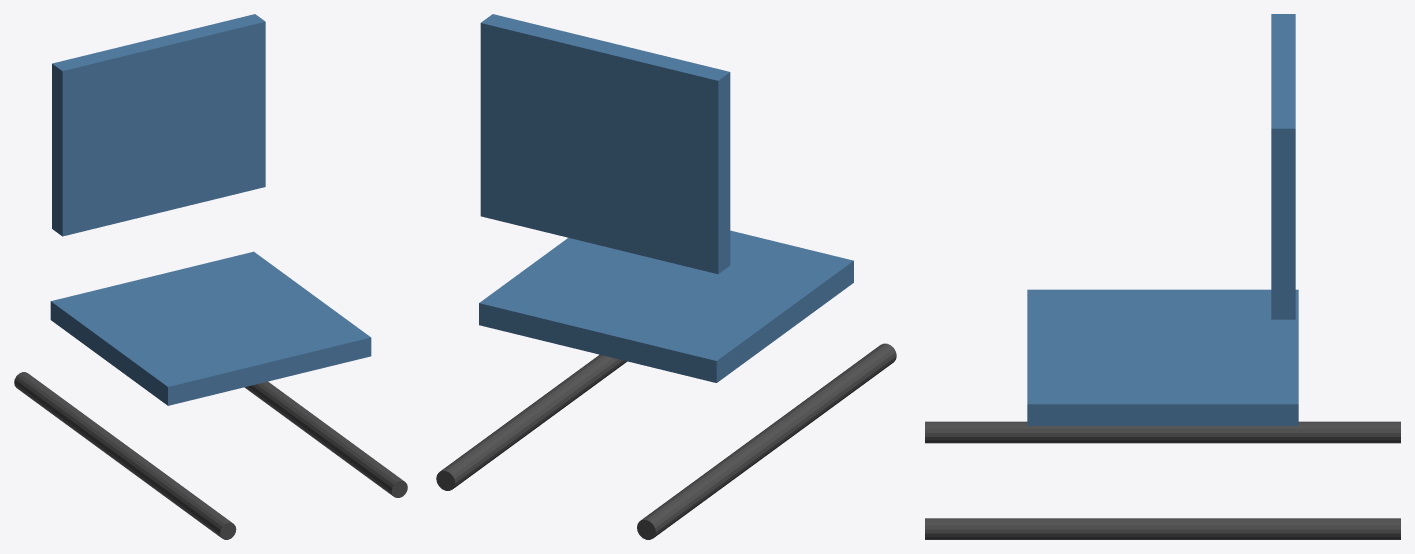
File: silla.glb
3 renders of one model, left to right at view 1: azimuth 30°, elevation 25°; view 2: azimuth 150°, elevation 25°; view 3: azimuth 270°, elevation 25°, orthographic. The views are drawn at different scales.
Visible parts, largest first — view 1: backrest, seat, leg_3, leg_2, leg_0, leg_1; view 2: backrest, seat, leg_1, leg_0, leg_2, leg_3; view 3: seat, backrest, leg_1, leg_3, leg_0, leg_2.
Part boxes in pixels (box(x1,y1,x2,y2)): backrest: box(52, 14, 265, 236); seat: box(50, 251, 371, 405); leg_3: box(285, 402, 407, 497); leg_2: box(113, 444, 236, 539); leg_0: box(14, 372, 133, 465); leg_1: box(244, 381, 301, 423); backrest: box(480, 14, 730, 273); seat: box(479, 230, 853, 382); leg_1: box(436, 379, 579, 490); leg_0: box(637, 428, 780, 539); leg_2: box(764, 343, 896, 453); leg_3: box(556, 354, 627, 402); seat: box(1027, 289, 1298, 425); backrest: box(1271, 14, 1295, 319); leg_1: box(1154, 518, 1400, 539); leg_3: box(925, 518, 1171, 539); leg_0: box(1154, 421, 1400, 443); leg_2: box(925, 421, 1171, 443).
Size of the model in its own units: 0.45 by 0.768 by 0.79.
